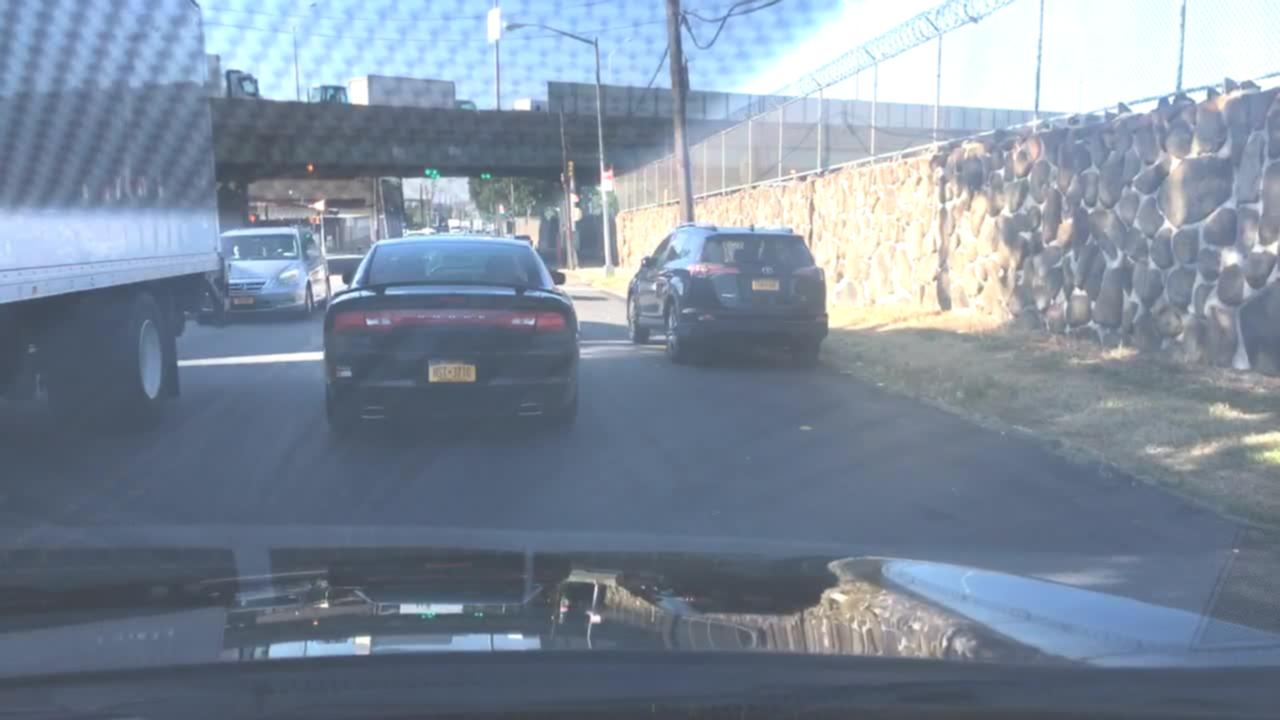Toyota: (758, 266, 776, 276)
dodge: (410, 307, 495, 324)
